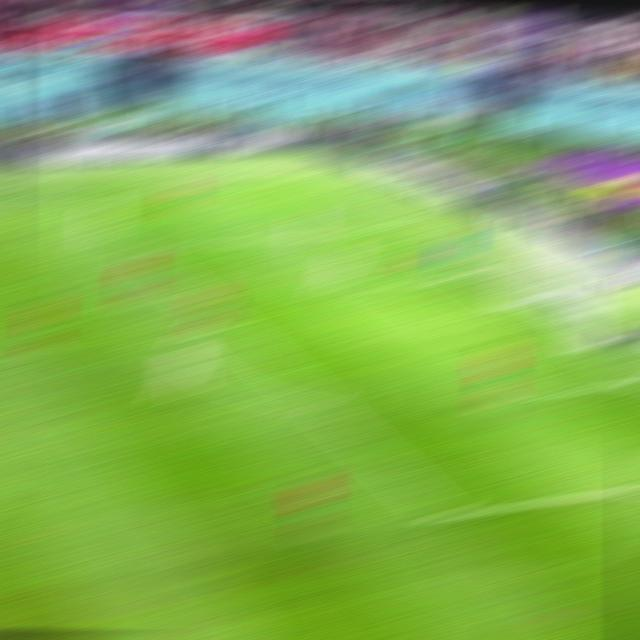bigarea_bottom_inner: (424, 502, 464, 526)
bigarea_top_inner: (124, 244, 155, 257)
bigarea_top_outter: (366, 220, 400, 232)
bottom_arc_area_intersection: (302, 395, 336, 413)
corner: (282, 174, 316, 183)
smallarea_bottom_inner: (525, 382, 562, 403)
smallarea_bottom_outter: (621, 371, 640, 388)
smallarea_top_inner: (366, 277, 400, 293)
smallarea_top_outter: (445, 269, 478, 281)
top_arc_area_intersection: (194, 306, 226, 319)
